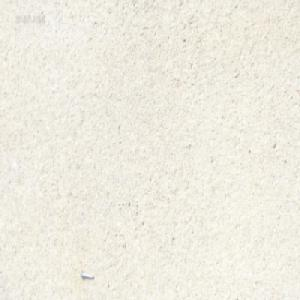Nail: (79, 270, 94, 279)
